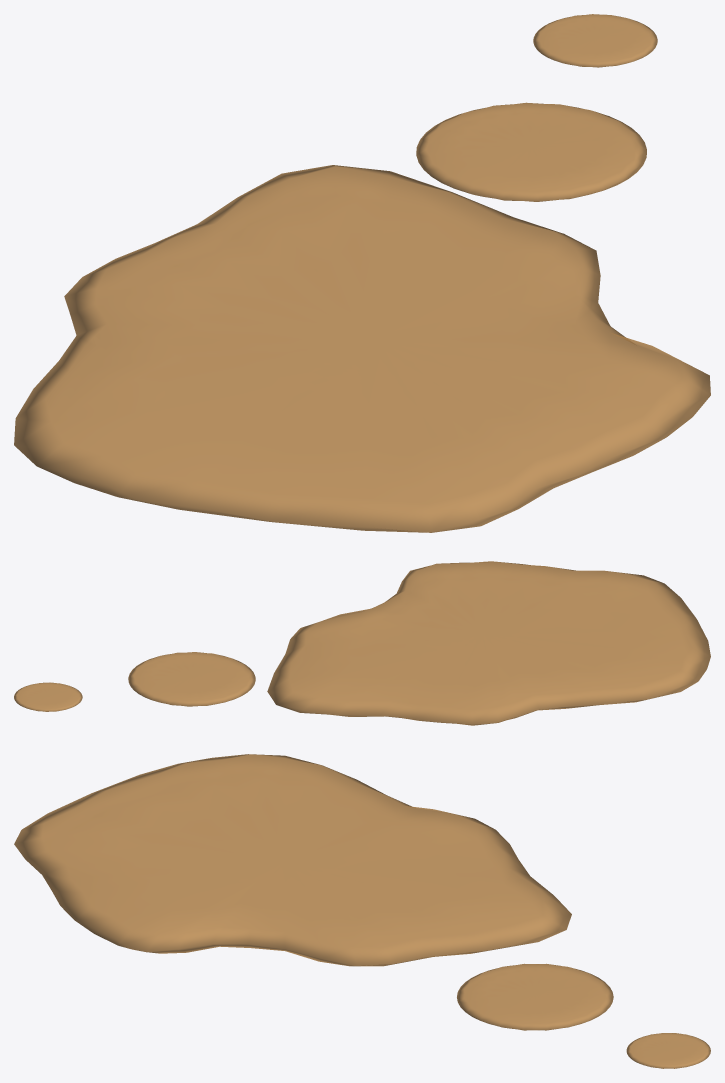
The model's file is oil.fbx.
The picture shows the model from 3 angles, top to bottom: view 1: azimuth 30°, elevation 25°; view 2: azimuth 150°, elevation 25°; view 3: azimuth 270°, elevation 25°; orthographic projection. The views are drawn at different scales.
Parts seen in each view (by area): view 1: pCylinder4; view 2: pCylinder4; view 3: pCylinder4.
Boxes of the visible parts, left/top/right/bottom form: pCylinder4: left=14, top=14, right=710, bottom=532; pCylinder4: left=14, top=561, right=710, bottom=725; pCylinder4: left=14, top=754, right=710, bottom=1068.
Size of the model in its own units: 1.85 by 0.0748 by 1.78.
